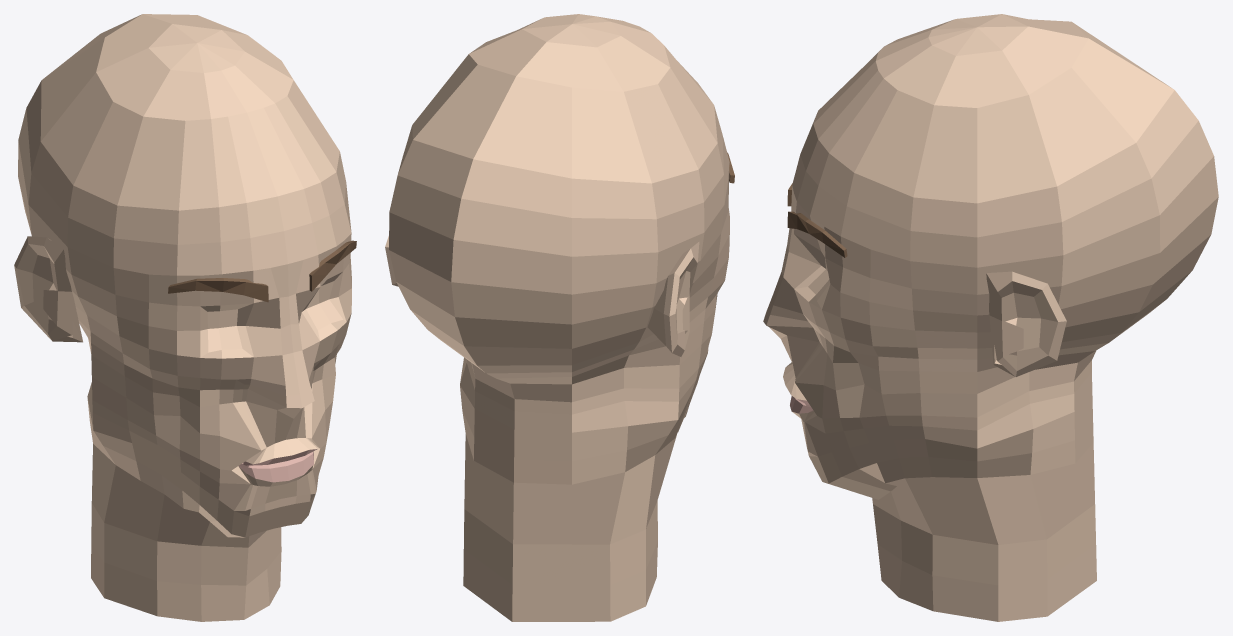
File: head_nose_v2.glb
3 renders of one model, left to right at view 1: azimuth 30°, elevation 25°; view 2: azimuth 150°, elevation 25°; view 3: azimuth 270°, elevation 25°, orthographic. The views are drawn at different scales.
Visible parts, largest first — view 1: Head_Main, Ears, Eyebrow_R, Eyebrow_L; view 2: Head_Main, Ears; view 3: Head_Main, Ears, Eyebrow_L.
Boxes of the visible parts, x1,y1,x2,y2 form: Head_Main: (18, 14, 351, 621); Ears: (14, 236, 82, 342); Eyebrow_R: (168, 278, 268, 302); Eyebrow_L: (309, 240, 356, 291); Head_Main: (389, 14, 729, 621); Ears: (385, 236, 699, 356); Head_Main: (763, 14, 1218, 621); Ears: (986, 271, 1066, 376); Eyebrow_L: (787, 211, 847, 257).
Bounding box in the file's own units: 0.1568 × 0.2886 × 0.2149.
